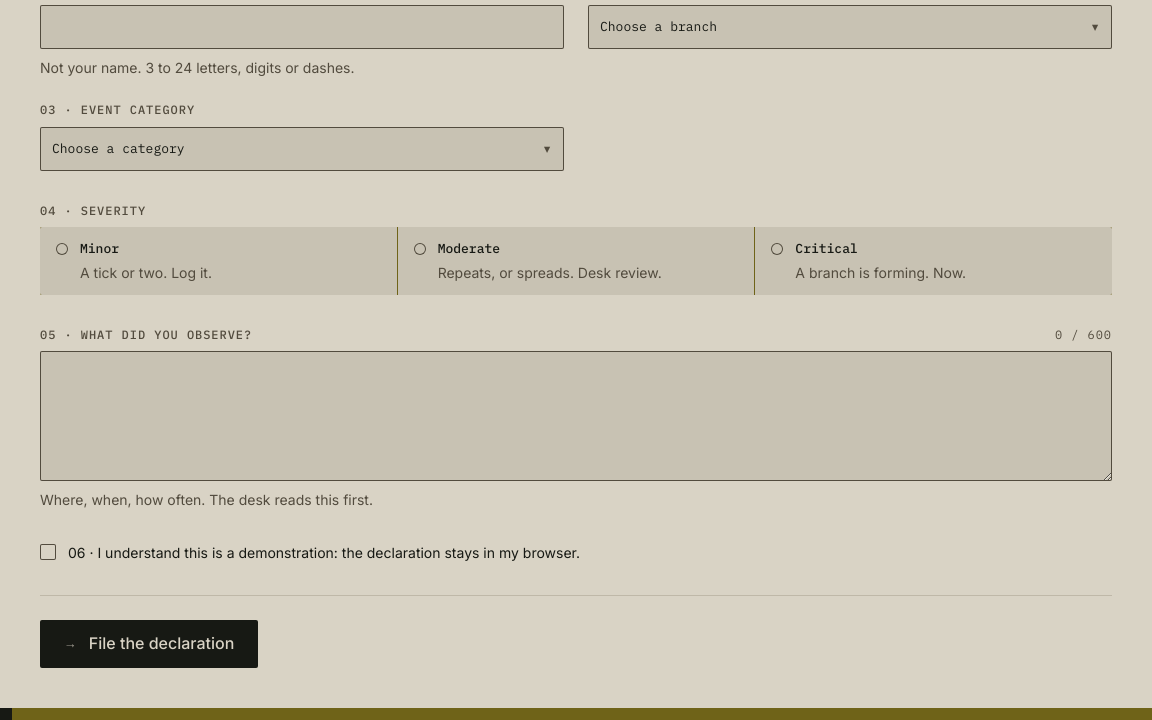
Scenario: NexusReportForm › shows accessible errors and focuses the first invalid field on an empty submit
(page scrolled)
Click the button "→ File the declaration" at coordinates (149, 644), box [40,620,258,668]
(page scrolled)
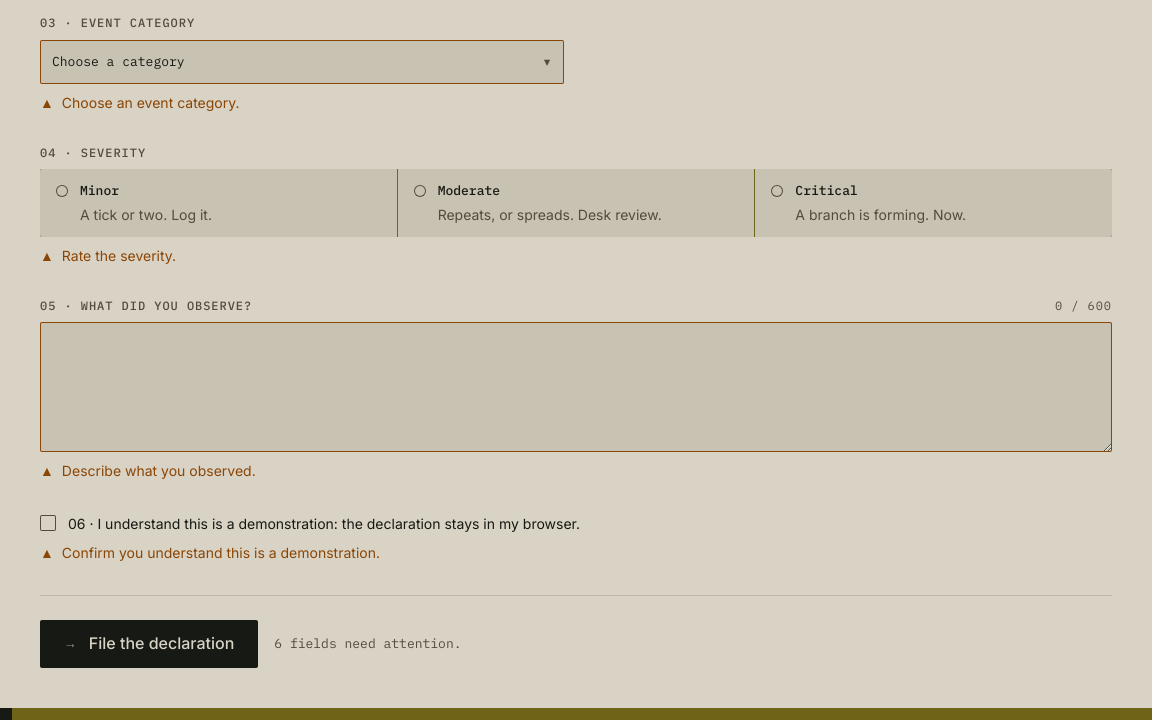
Expected: the message shows "fields need attention", [274,635,462,652]
